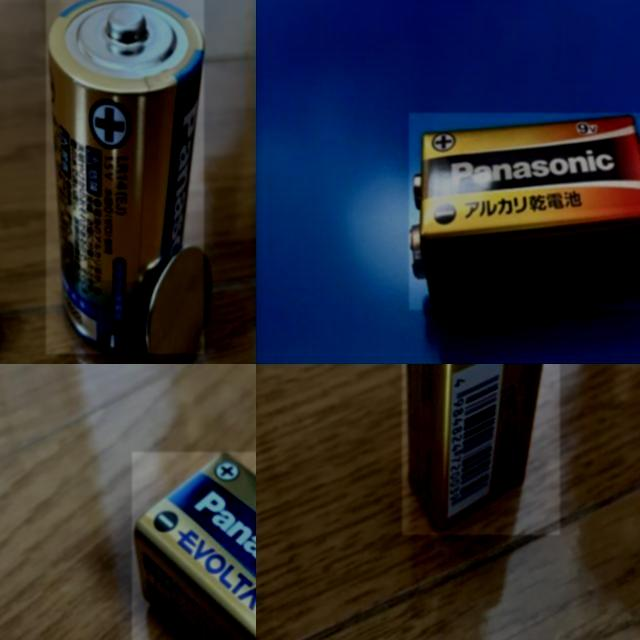9V: (409, 113, 640, 310), (402, 364, 560, 535), (132, 452, 256, 640)
